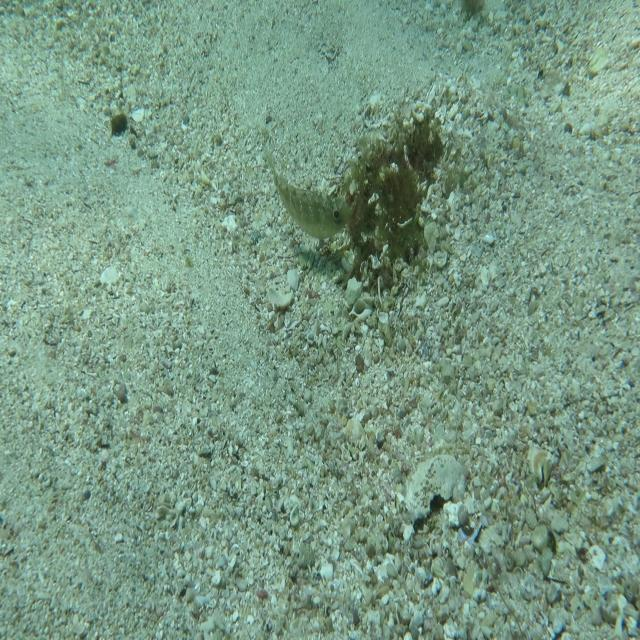MAN: (257, 138, 356, 244)
core_nest: (408, 125, 442, 160)
nest: (339, 102, 456, 288)
vegetation: (108, 111, 130, 138), (459, 0, 485, 21)
